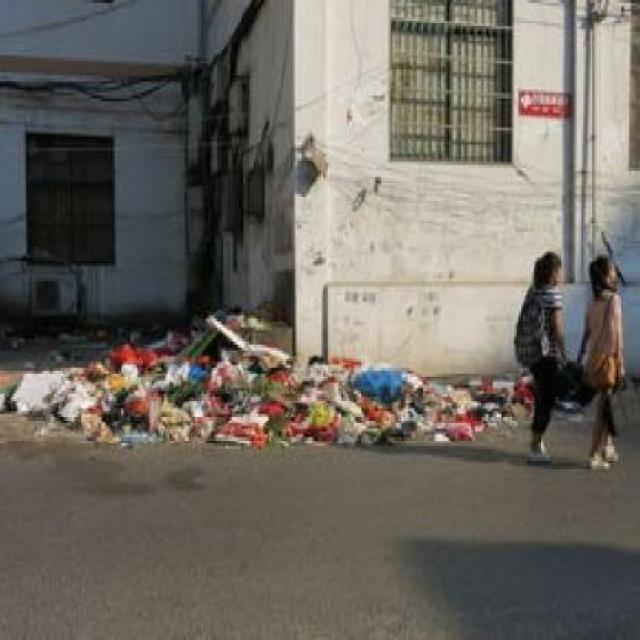garbage: (32, 318, 296, 440), (253, 357, 489, 436)
